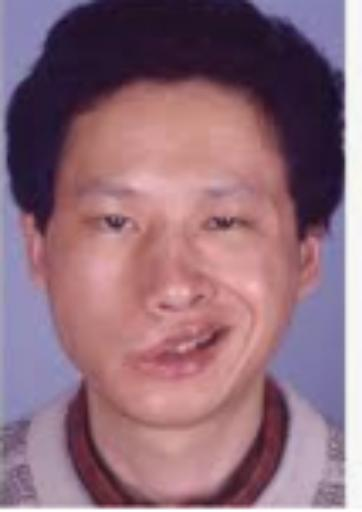left_eye: (200, 215, 257, 241)
left_lip_corner: (217, 319, 243, 337)
right_eye: (81, 213, 143, 241)
right_lip_corner: (126, 344, 158, 375)
